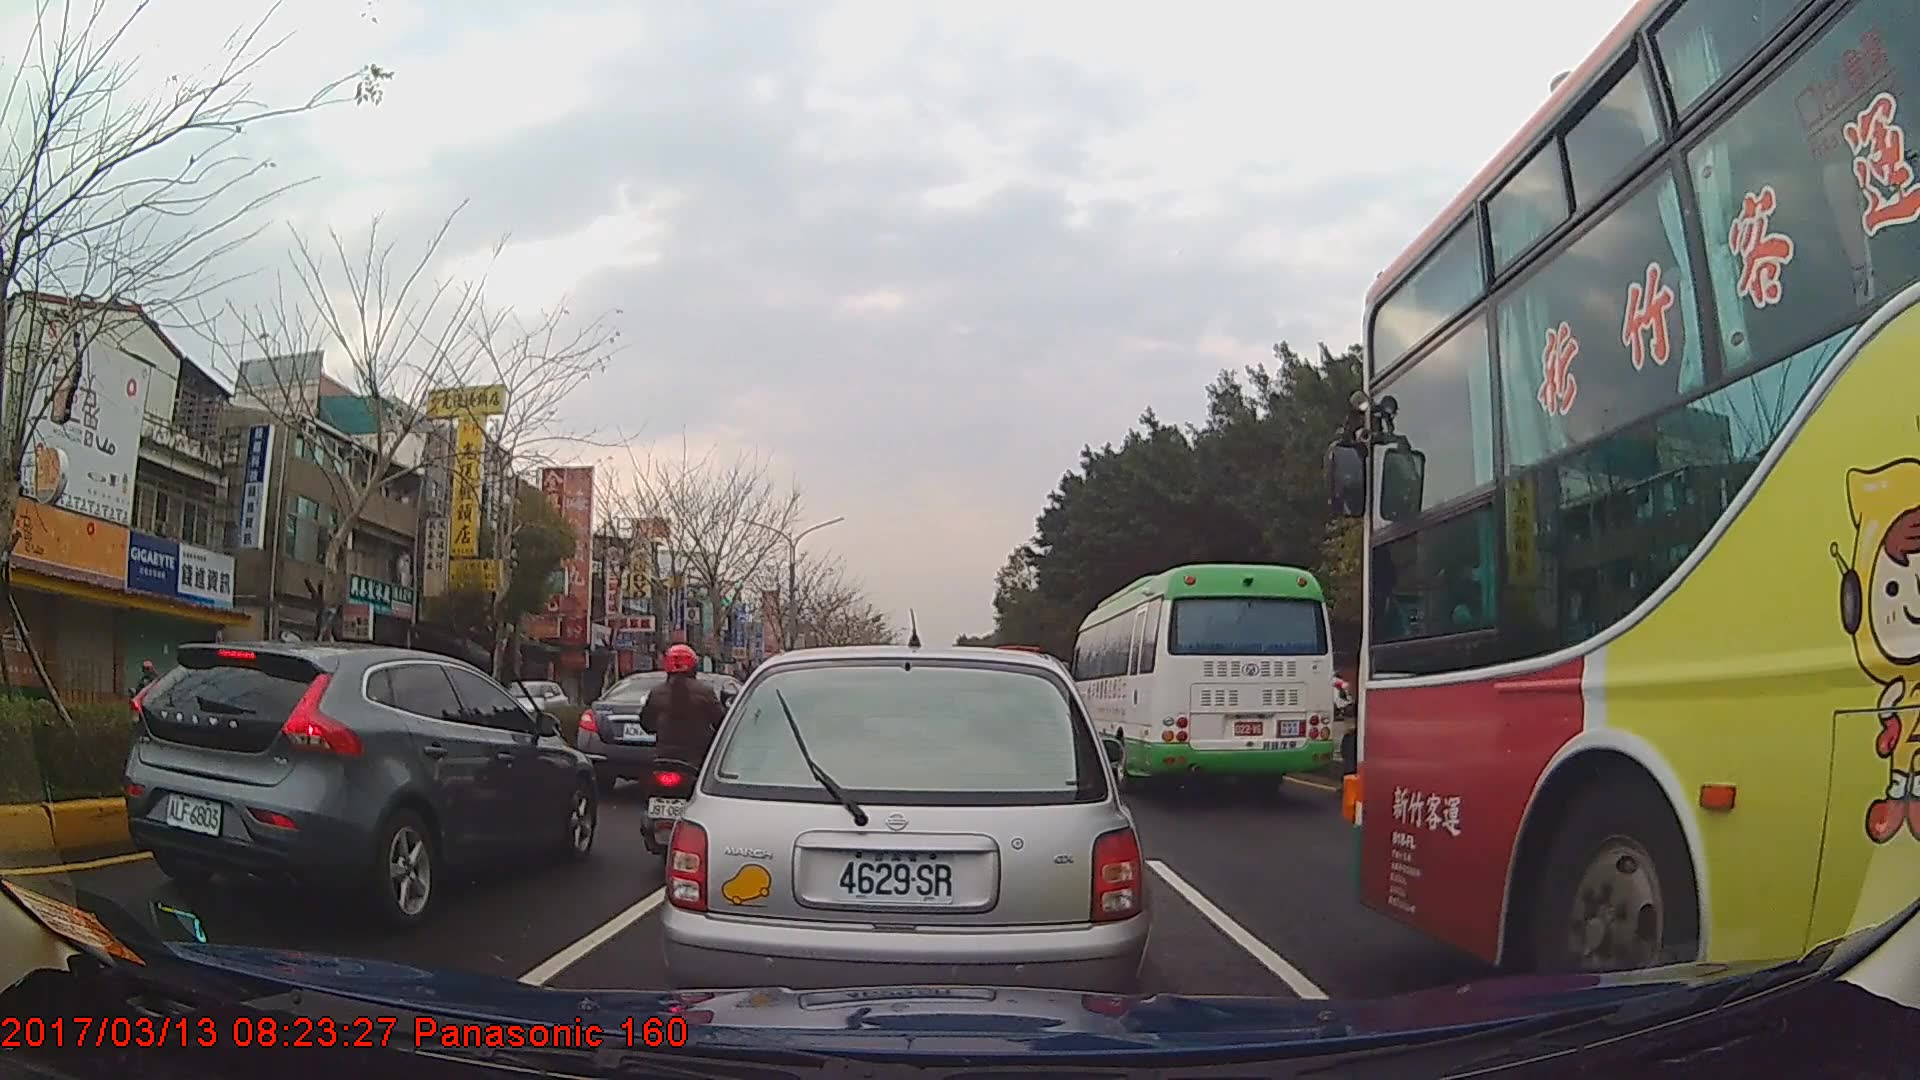rider: (635, 641, 742, 860), (128, 659, 162, 711)
vehicle: (1357, 0, 1920, 1013), (662, 637, 1152, 1024), (122, 637, 598, 930), (1066, 563, 1334, 800), (578, 668, 766, 793), (493, 678, 566, 729)
